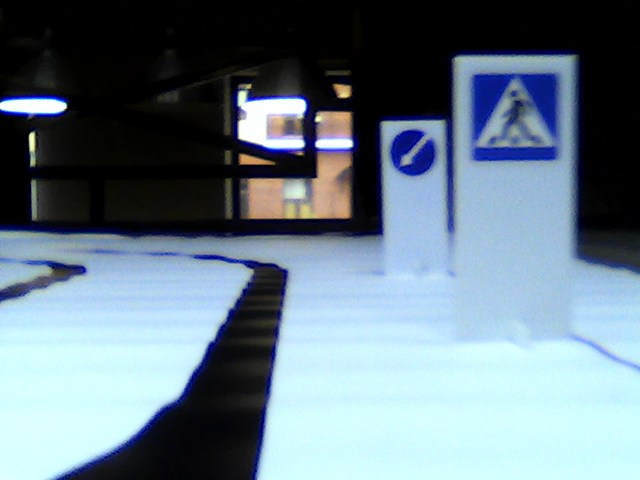pesh: (470, 72, 561, 161)
prep: (389, 127, 438, 175)
